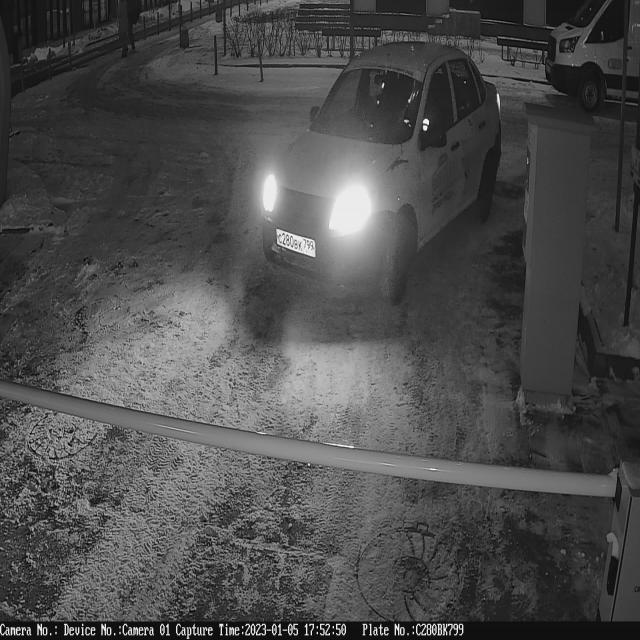car-plate-numbers: (276, 225, 318, 262)
